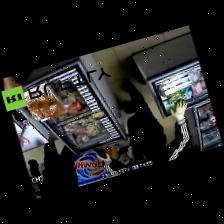person: (123, 78, 189, 171), (42, 141, 78, 196), (35, 163, 45, 196), (3, 75, 24, 90)
